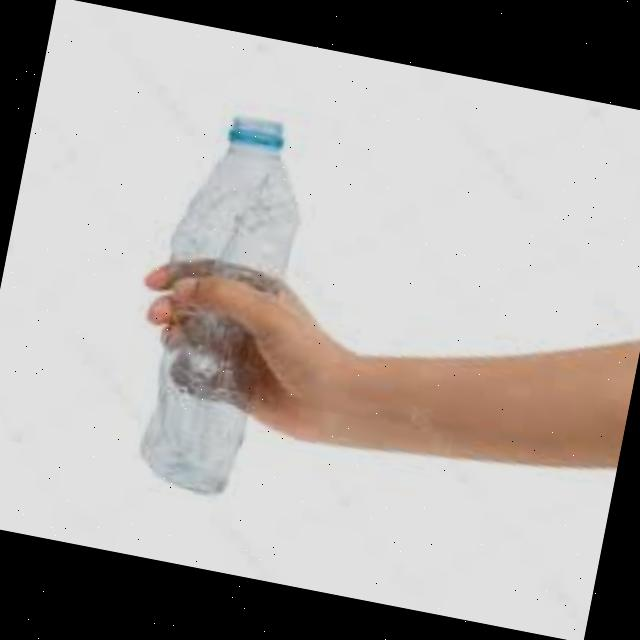trash: (109, 92, 338, 533)
